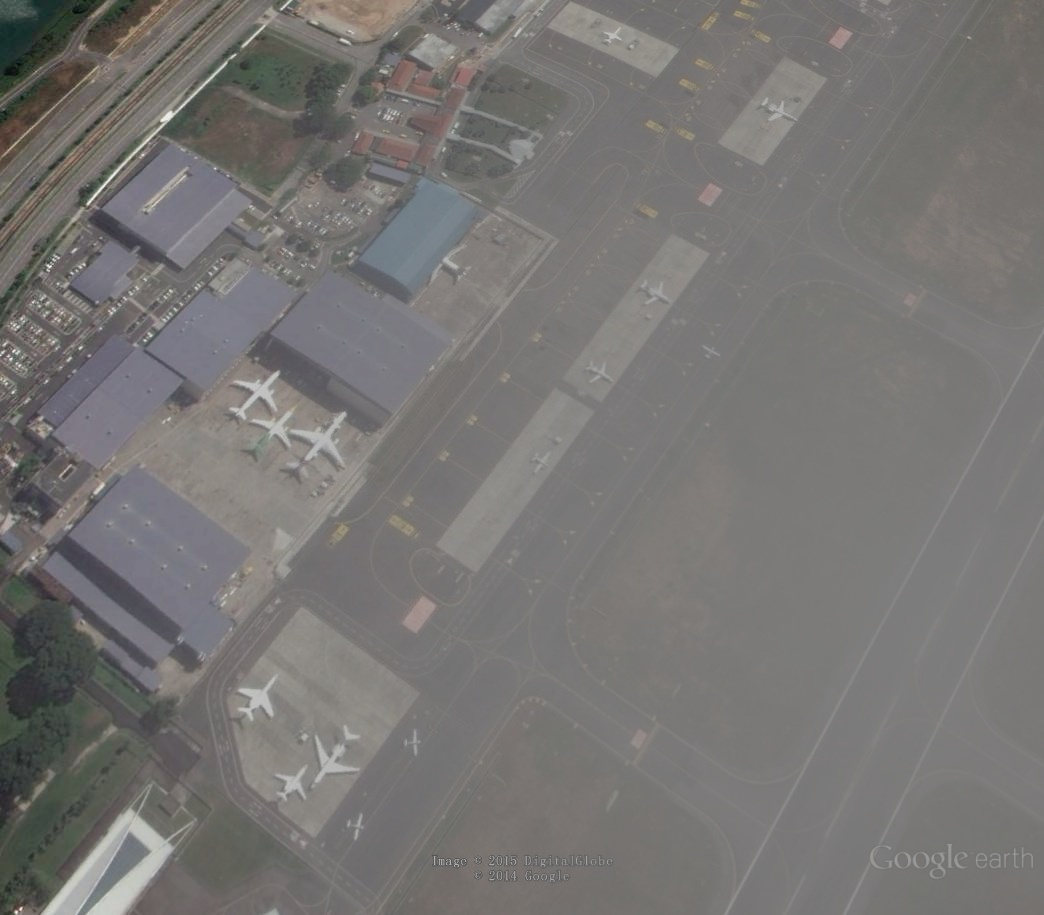aircraft: (277, 406, 355, 484), (309, 723, 367, 796), (241, 403, 300, 463), (226, 367, 283, 426), (234, 673, 283, 727), (267, 763, 313, 811), (429, 243, 474, 286), (756, 93, 802, 129), (342, 810, 370, 847), (582, 358, 616, 388), (637, 280, 676, 306), (400, 727, 426, 762), (529, 448, 555, 474), (700, 342, 726, 364), (600, 27, 627, 48)
